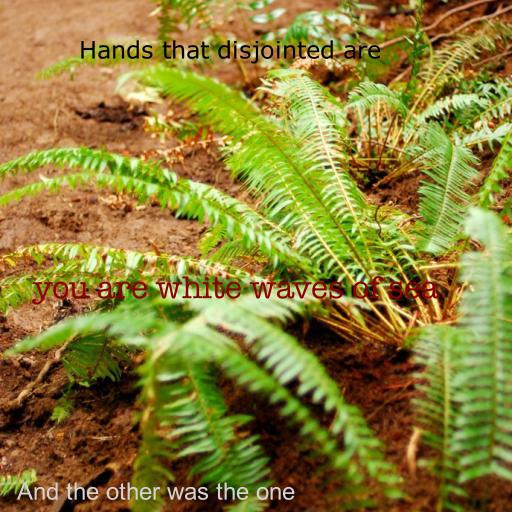American Typewriter: (33, 276, 439, 305)
Arial: (17, 482, 295, 500)
Verdana: (79, 40, 381, 64)
